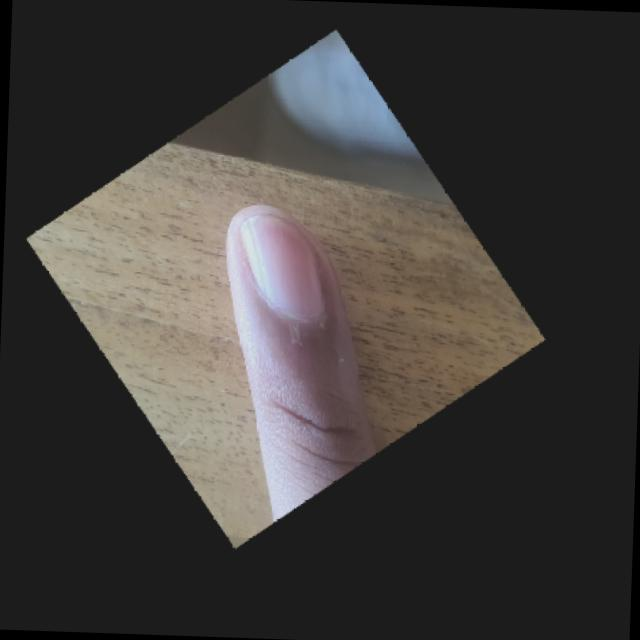Nail: (238, 209, 324, 316)
